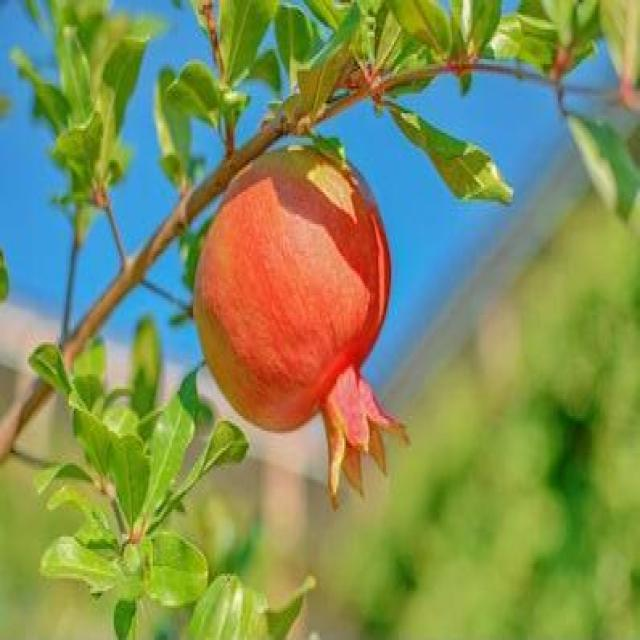Pomegranate: (192, 140, 412, 509)
